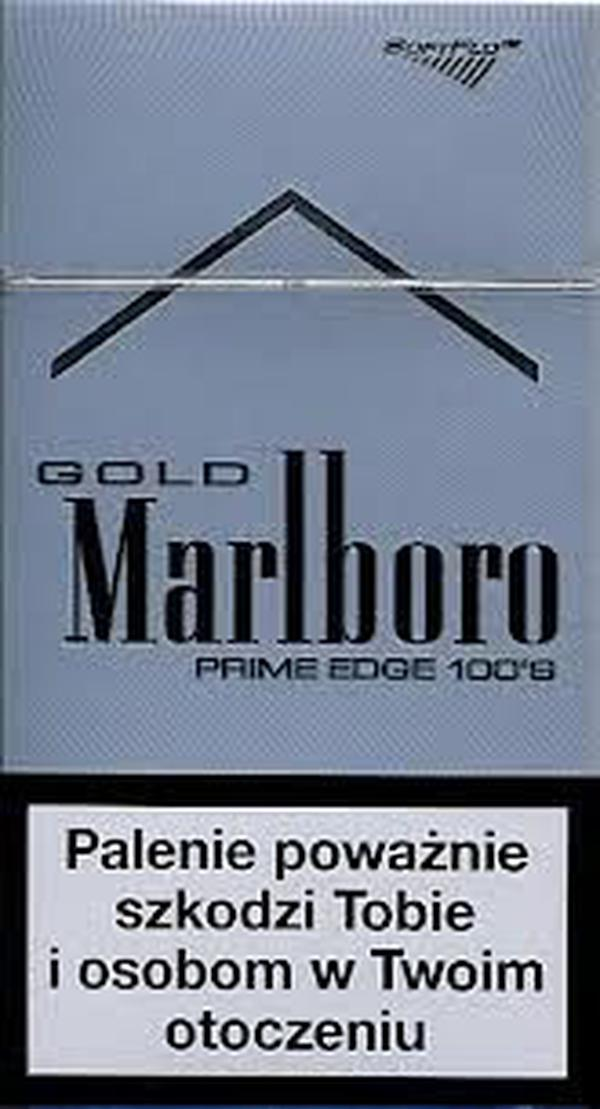marlboro_gold: (1, 3, 600, 1103)
